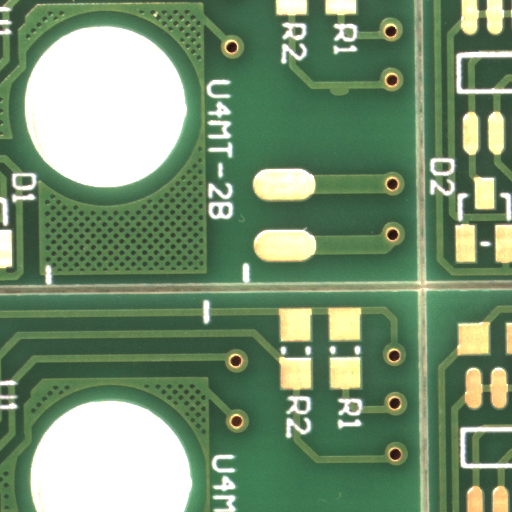Spur: (338, 91, 367, 102)
